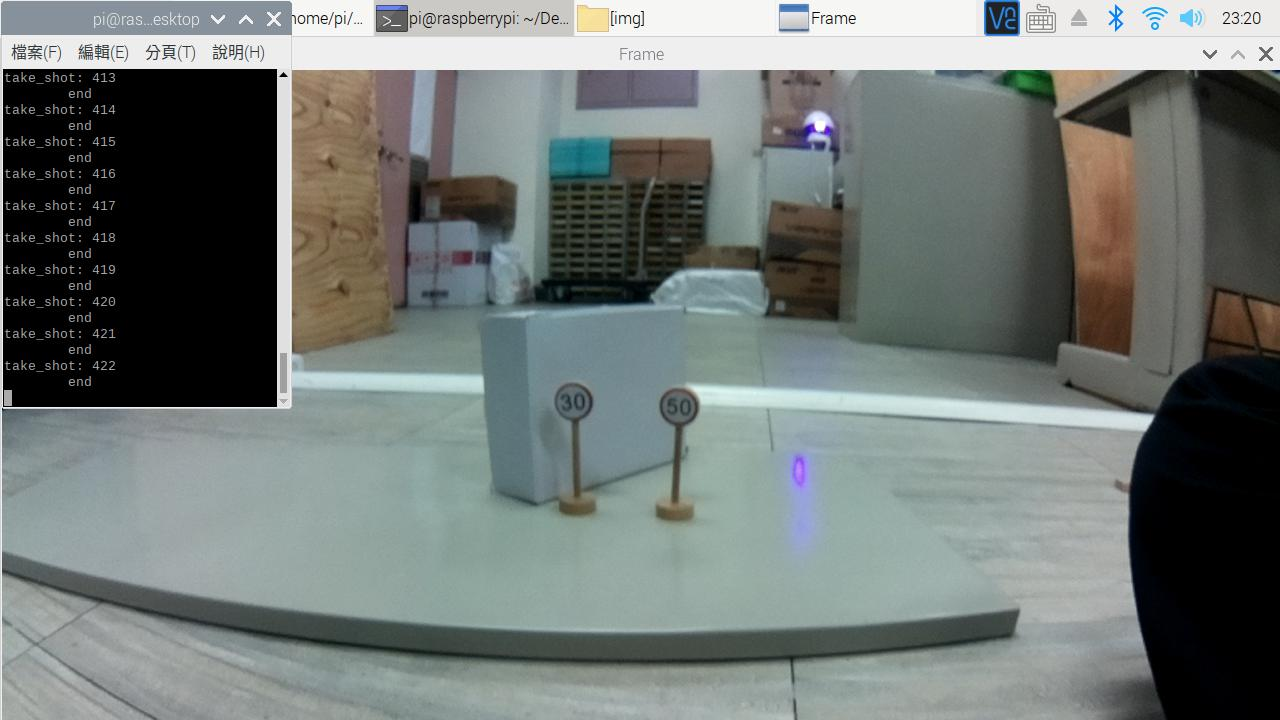Speed30: (550, 375, 601, 434)
Speed50: (650, 383, 717, 440)
